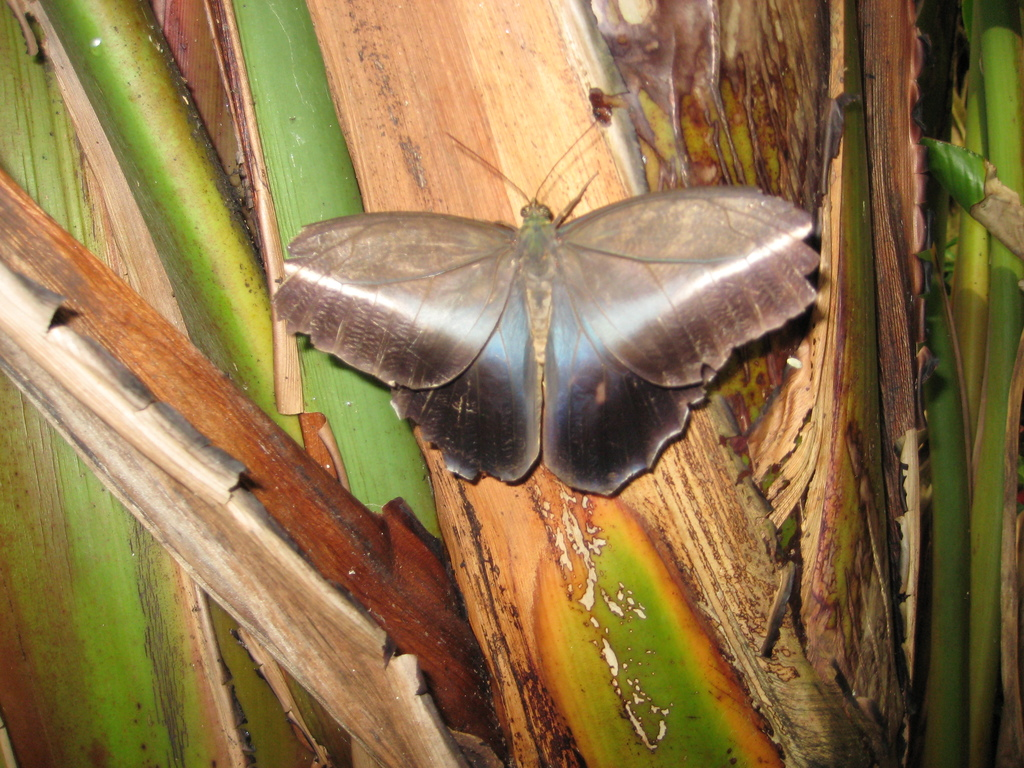Butterfly: (275, 176, 822, 495)
